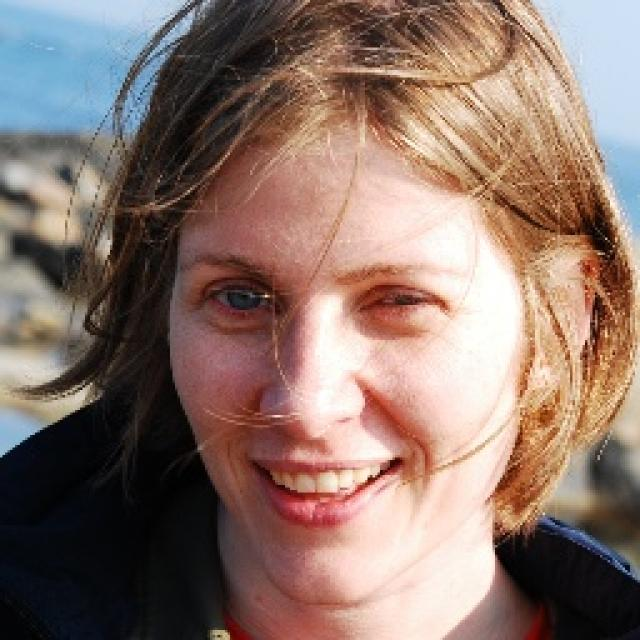earlobe: (519, 367, 557, 402)
eye: (199, 280, 285, 315), (361, 280, 442, 314)
nose: (270, 419, 362, 451)
wholeear: (524, 236, 601, 404)
